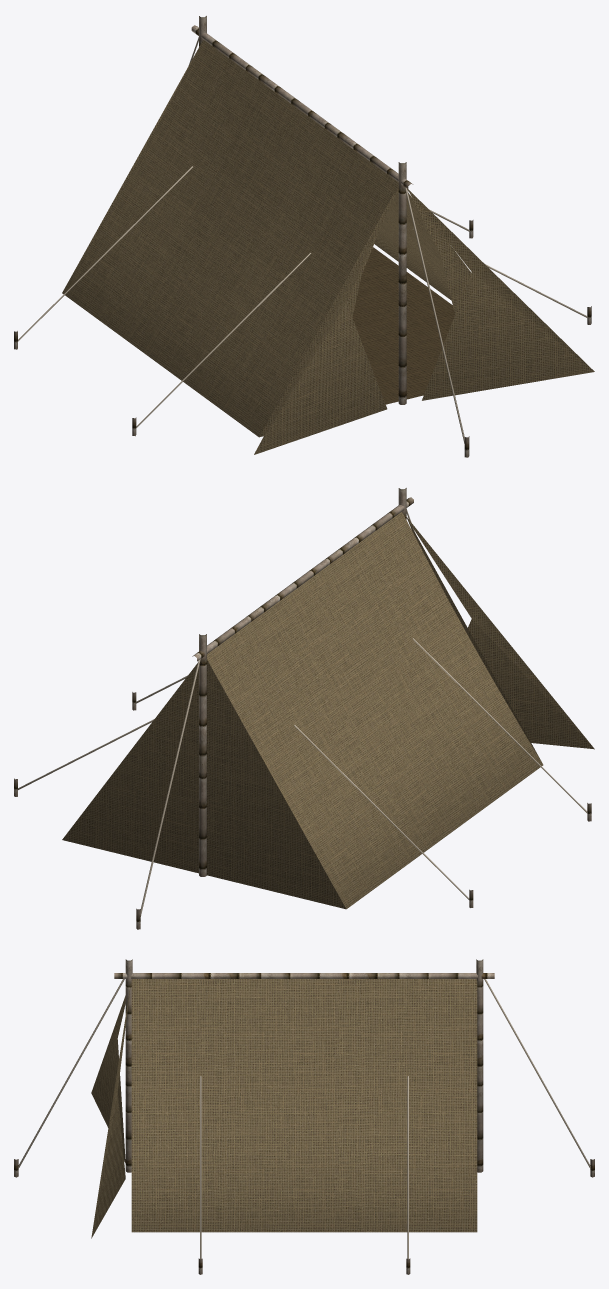
The model's file is lg-zelt.glb.
3 views of the same model, one above another, from view 1: azimuth 30°, elevation 25°; view 2: azimuth 150°, elevation 25°; view 3: azimuth 270°, elevation 25° (orthographic). The views are drawn at different scales.
Parts seen in each view (by area): view 1: lg-zelt; view 2: lg-zelt; view 3: lg-zelt.
Part boxes in pixels (x1,y1,x2,y2): lg-zelt: [14, 16, 594, 457]; lg-zelt: [14, 488, 594, 929]; lg-zelt: [14, 959, 594, 1274].
Size of the model in its own units: 4.04 by 2.08 by 5.04.
3 materials, 2 textured.
